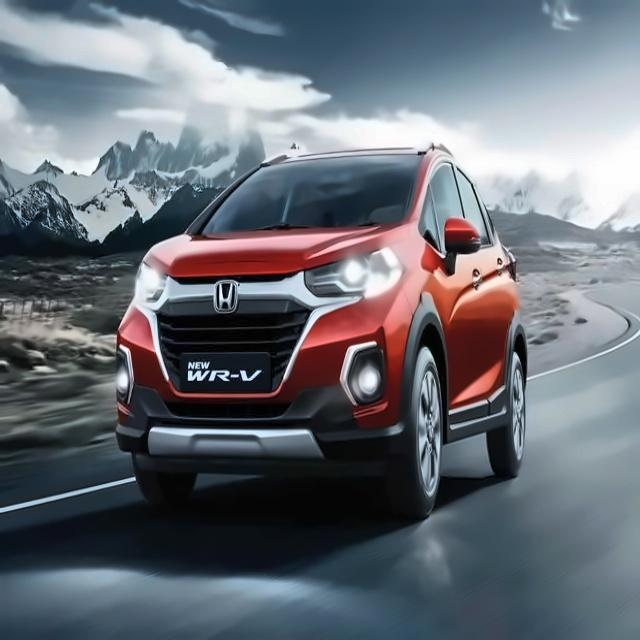Car hood: (139, 216, 401, 282)
Fender - -F-L-: (381, 192, 451, 391)
Front bumper: (117, 296, 418, 471)
Headlight - -L-: (306, 247, 405, 297)
Headlight - -R-: (127, 262, 172, 307)
Passenger-s door - -F-L-: (423, 129, 492, 453)
Passenger-s door - -R-L-: (456, 143, 515, 443)
Side bumper - -L-: (436, 357, 512, 475)
Side mirror - -L-: (435, 212, 478, 273)
